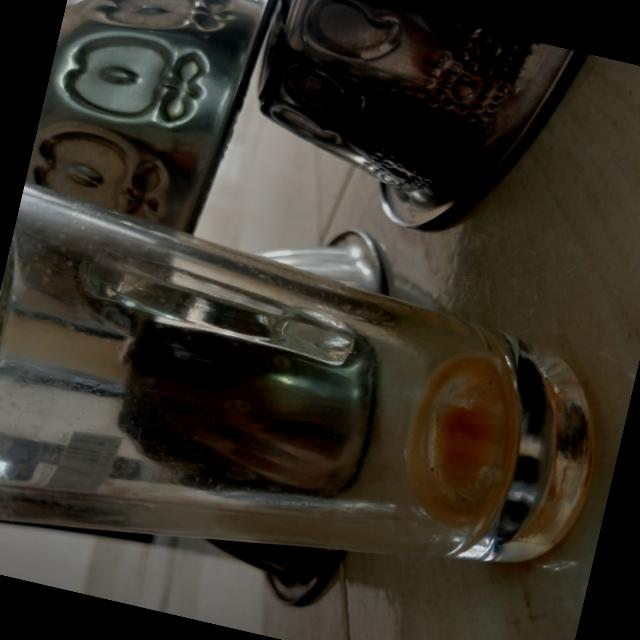glass-VX4N: (0, 176, 630, 640)
